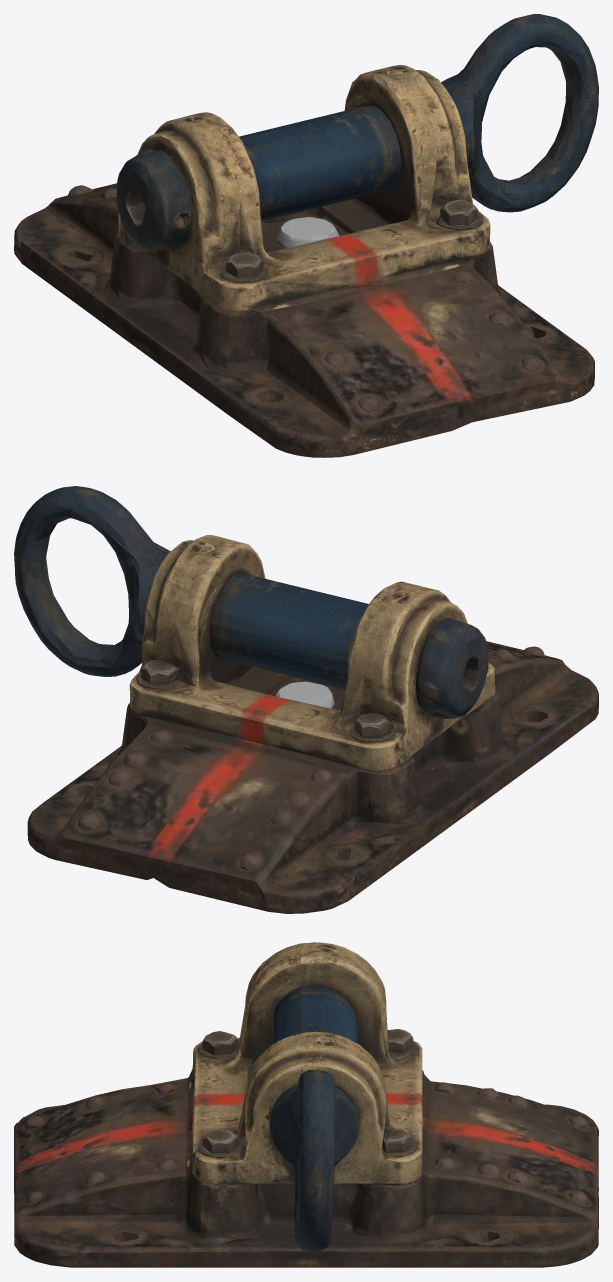
Rendered from release_pin.glb.
3 views of the same model, one above another, from view 1: azimuth 30°, elevation 25°; view 2: azimuth 150°, elevation 25°; view 3: azimuth 270°, elevation 25° (orthographic). The views are drawn at different scales.
Visible parts, largest first — view 1: Mesh_0; view 2: Mesh_0; view 3: Mesh_0.
Part boxes in pixels (x1,y1,x2,y2): Mesh_0: [14, 14, 598, 457]; Mesh_0: [14, 486, 598, 913]; Mesh_0: [14, 942, 598, 1267].
Bounding box in the file's own units: 1.64 × 0.8039 × 1.9.
Materials: 1 (1 with a texture image).
